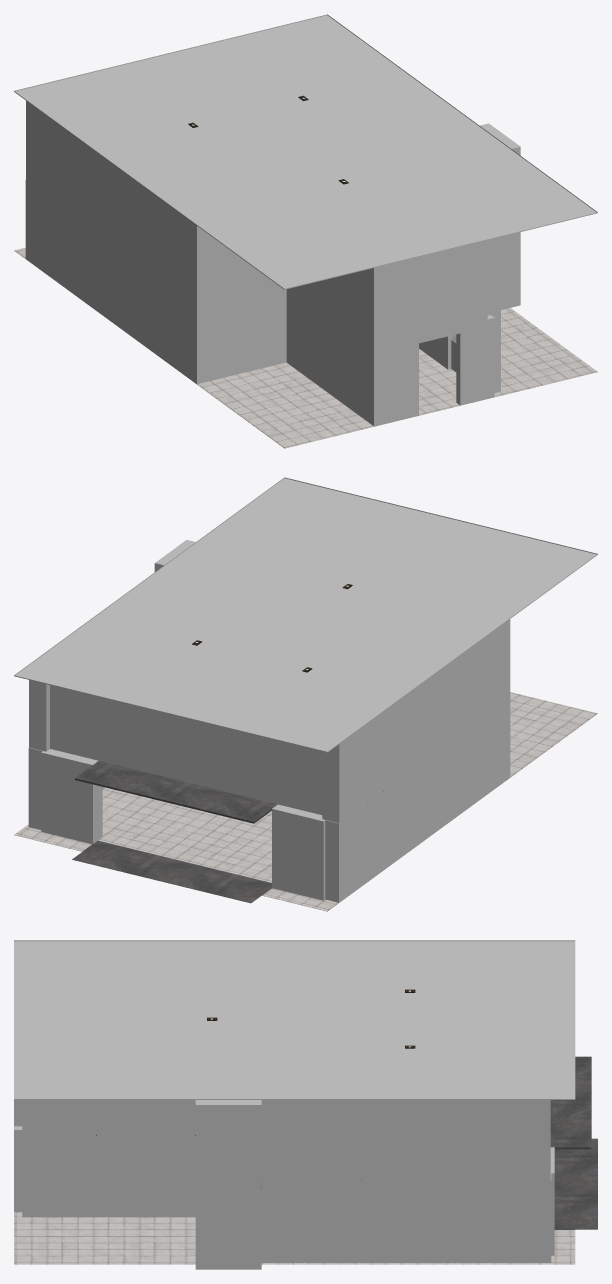
Rendered from LC_room1_endroom.obj.
3 renders of one model, top to bottom at view 1: azimuth 30°, elevation 25°; view 2: azimuth 150°, elevation 25°; view 3: azimuth 270°, elevation 25°, orthographic. The views are drawn at different scales.
Parts seen in each view (by area): view 1: LC_room1_endroom; view 2: LC_room1_endroom; view 3: LC_room1_endroom.
Boxes of the visible parts, <box> form: LC_room1_endroom: <box>14,14,597,448</box>; LC_room1_endroom: <box>14,477,597,911</box>; LC_room1_endroom: <box>14,940,597,1269</box>.
Bounding box in the file's own units: 14.69 × 6.92 × 22.11.
